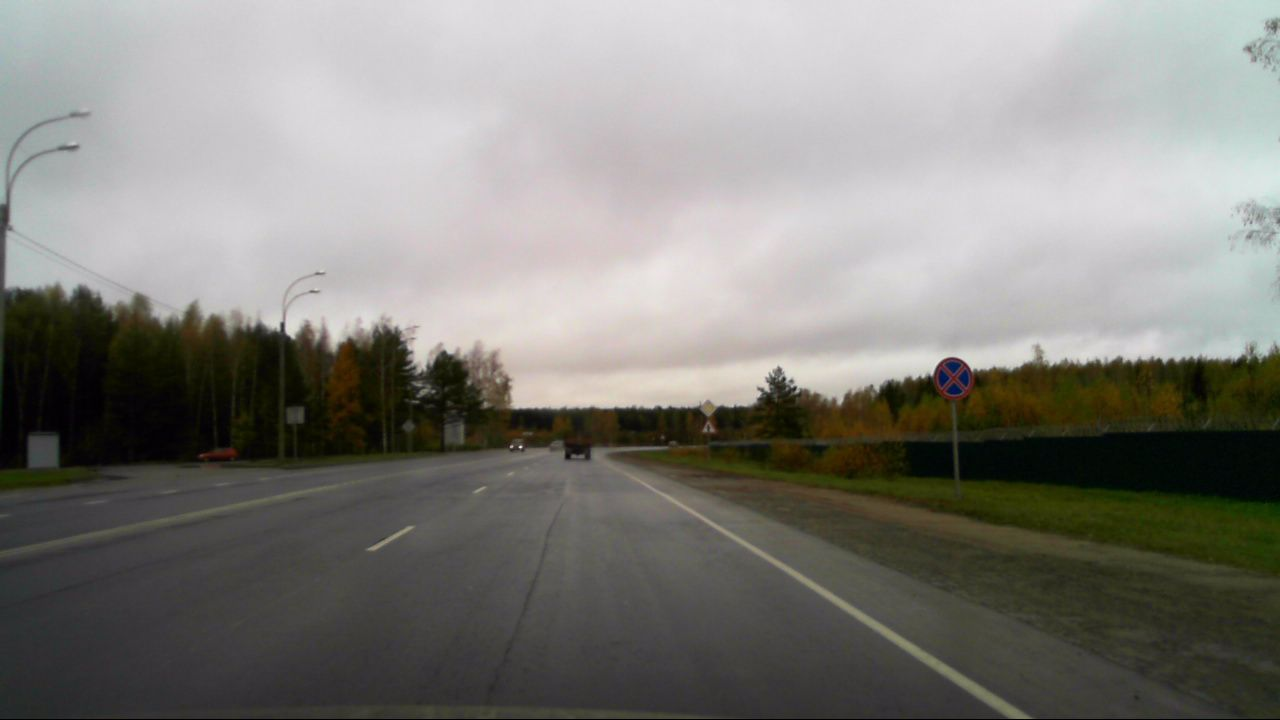No Parking: (932, 354, 975, 402)
